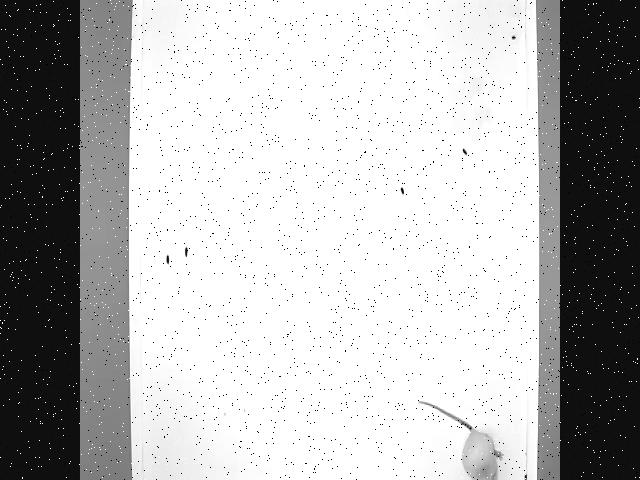Tikus: (414, 397, 504, 480)
